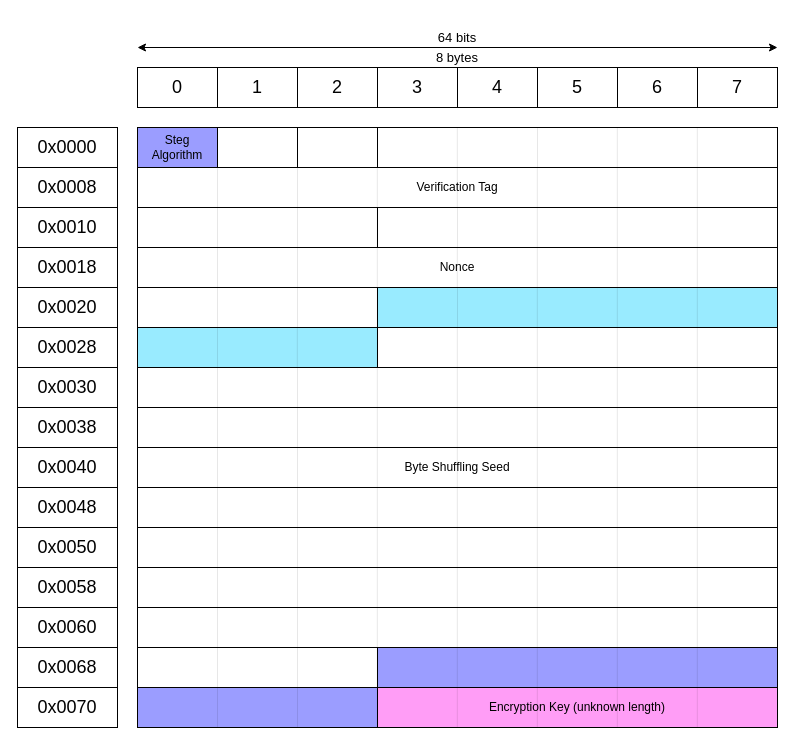
The diagram is 804 pixels wide and 745 high, and some of its shapes have lost their labels. Here are the shapes that lost their labels. From the top down, the centre of each, then its label:
the point at 257,147: Block Size
the point at 337,147: Symbol Num
the point at 577,307: Update Header
the point at 457,507: (64 bytes)
the point at 577,667: Minimum Complexity Coefficient
